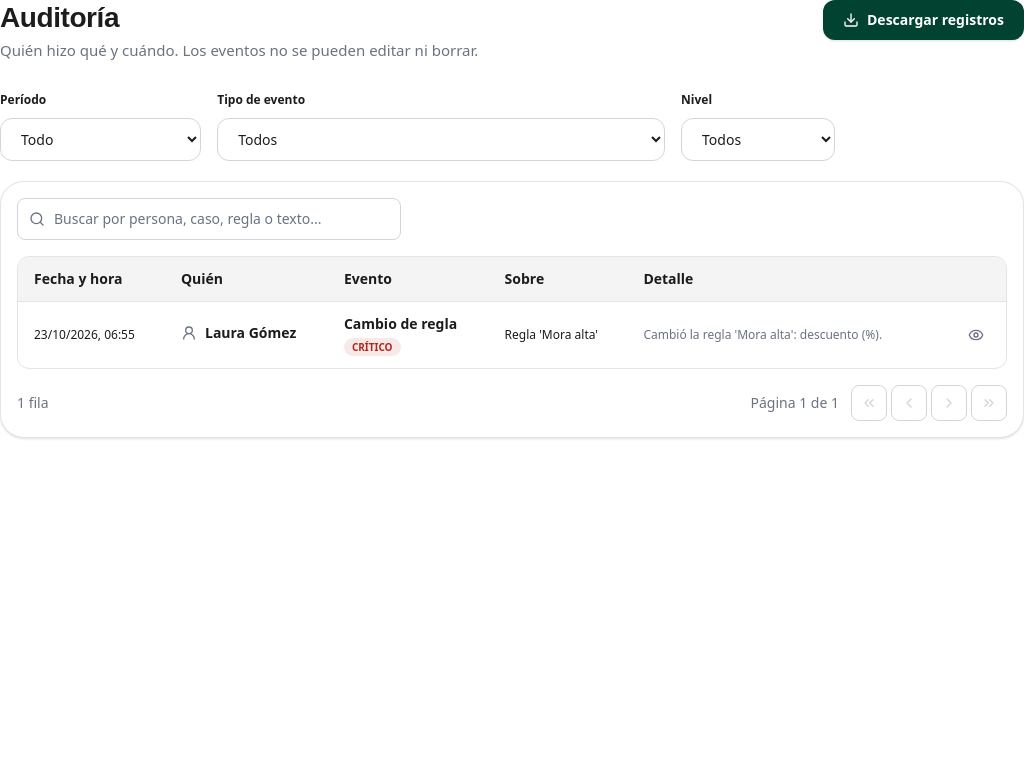
Test case: Auditoría › lista los eventos y muestra el antes y después de un cambio
This screenshot has width=1024, height=768.
Check: the row "Laura Gómez" shows "Cambio de regla", box [344, 314, 457, 332]
Check: the row "Laura Gómez" shows "Crítico", box [352, 340, 393, 354]
Click the button named "Ver el detalle". click: [976, 335]
box: [962, 321, 990, 349]
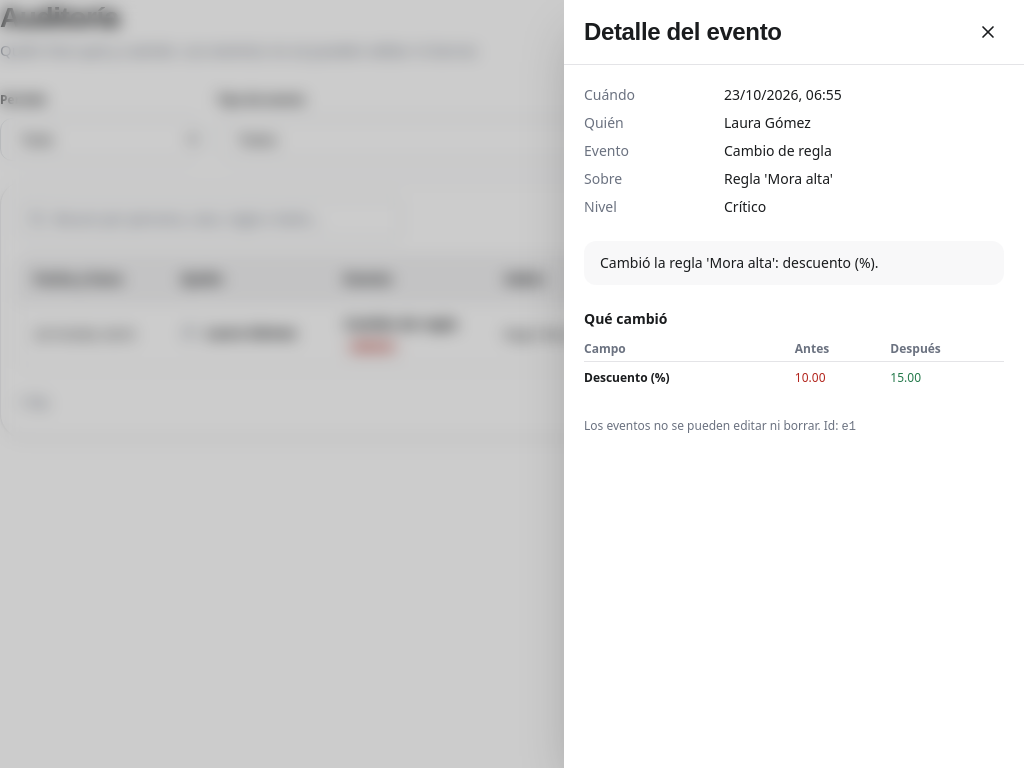
Check: the row "Descuento (%) 10.00 15.00" is shown, box [584, 362, 1004, 394]
